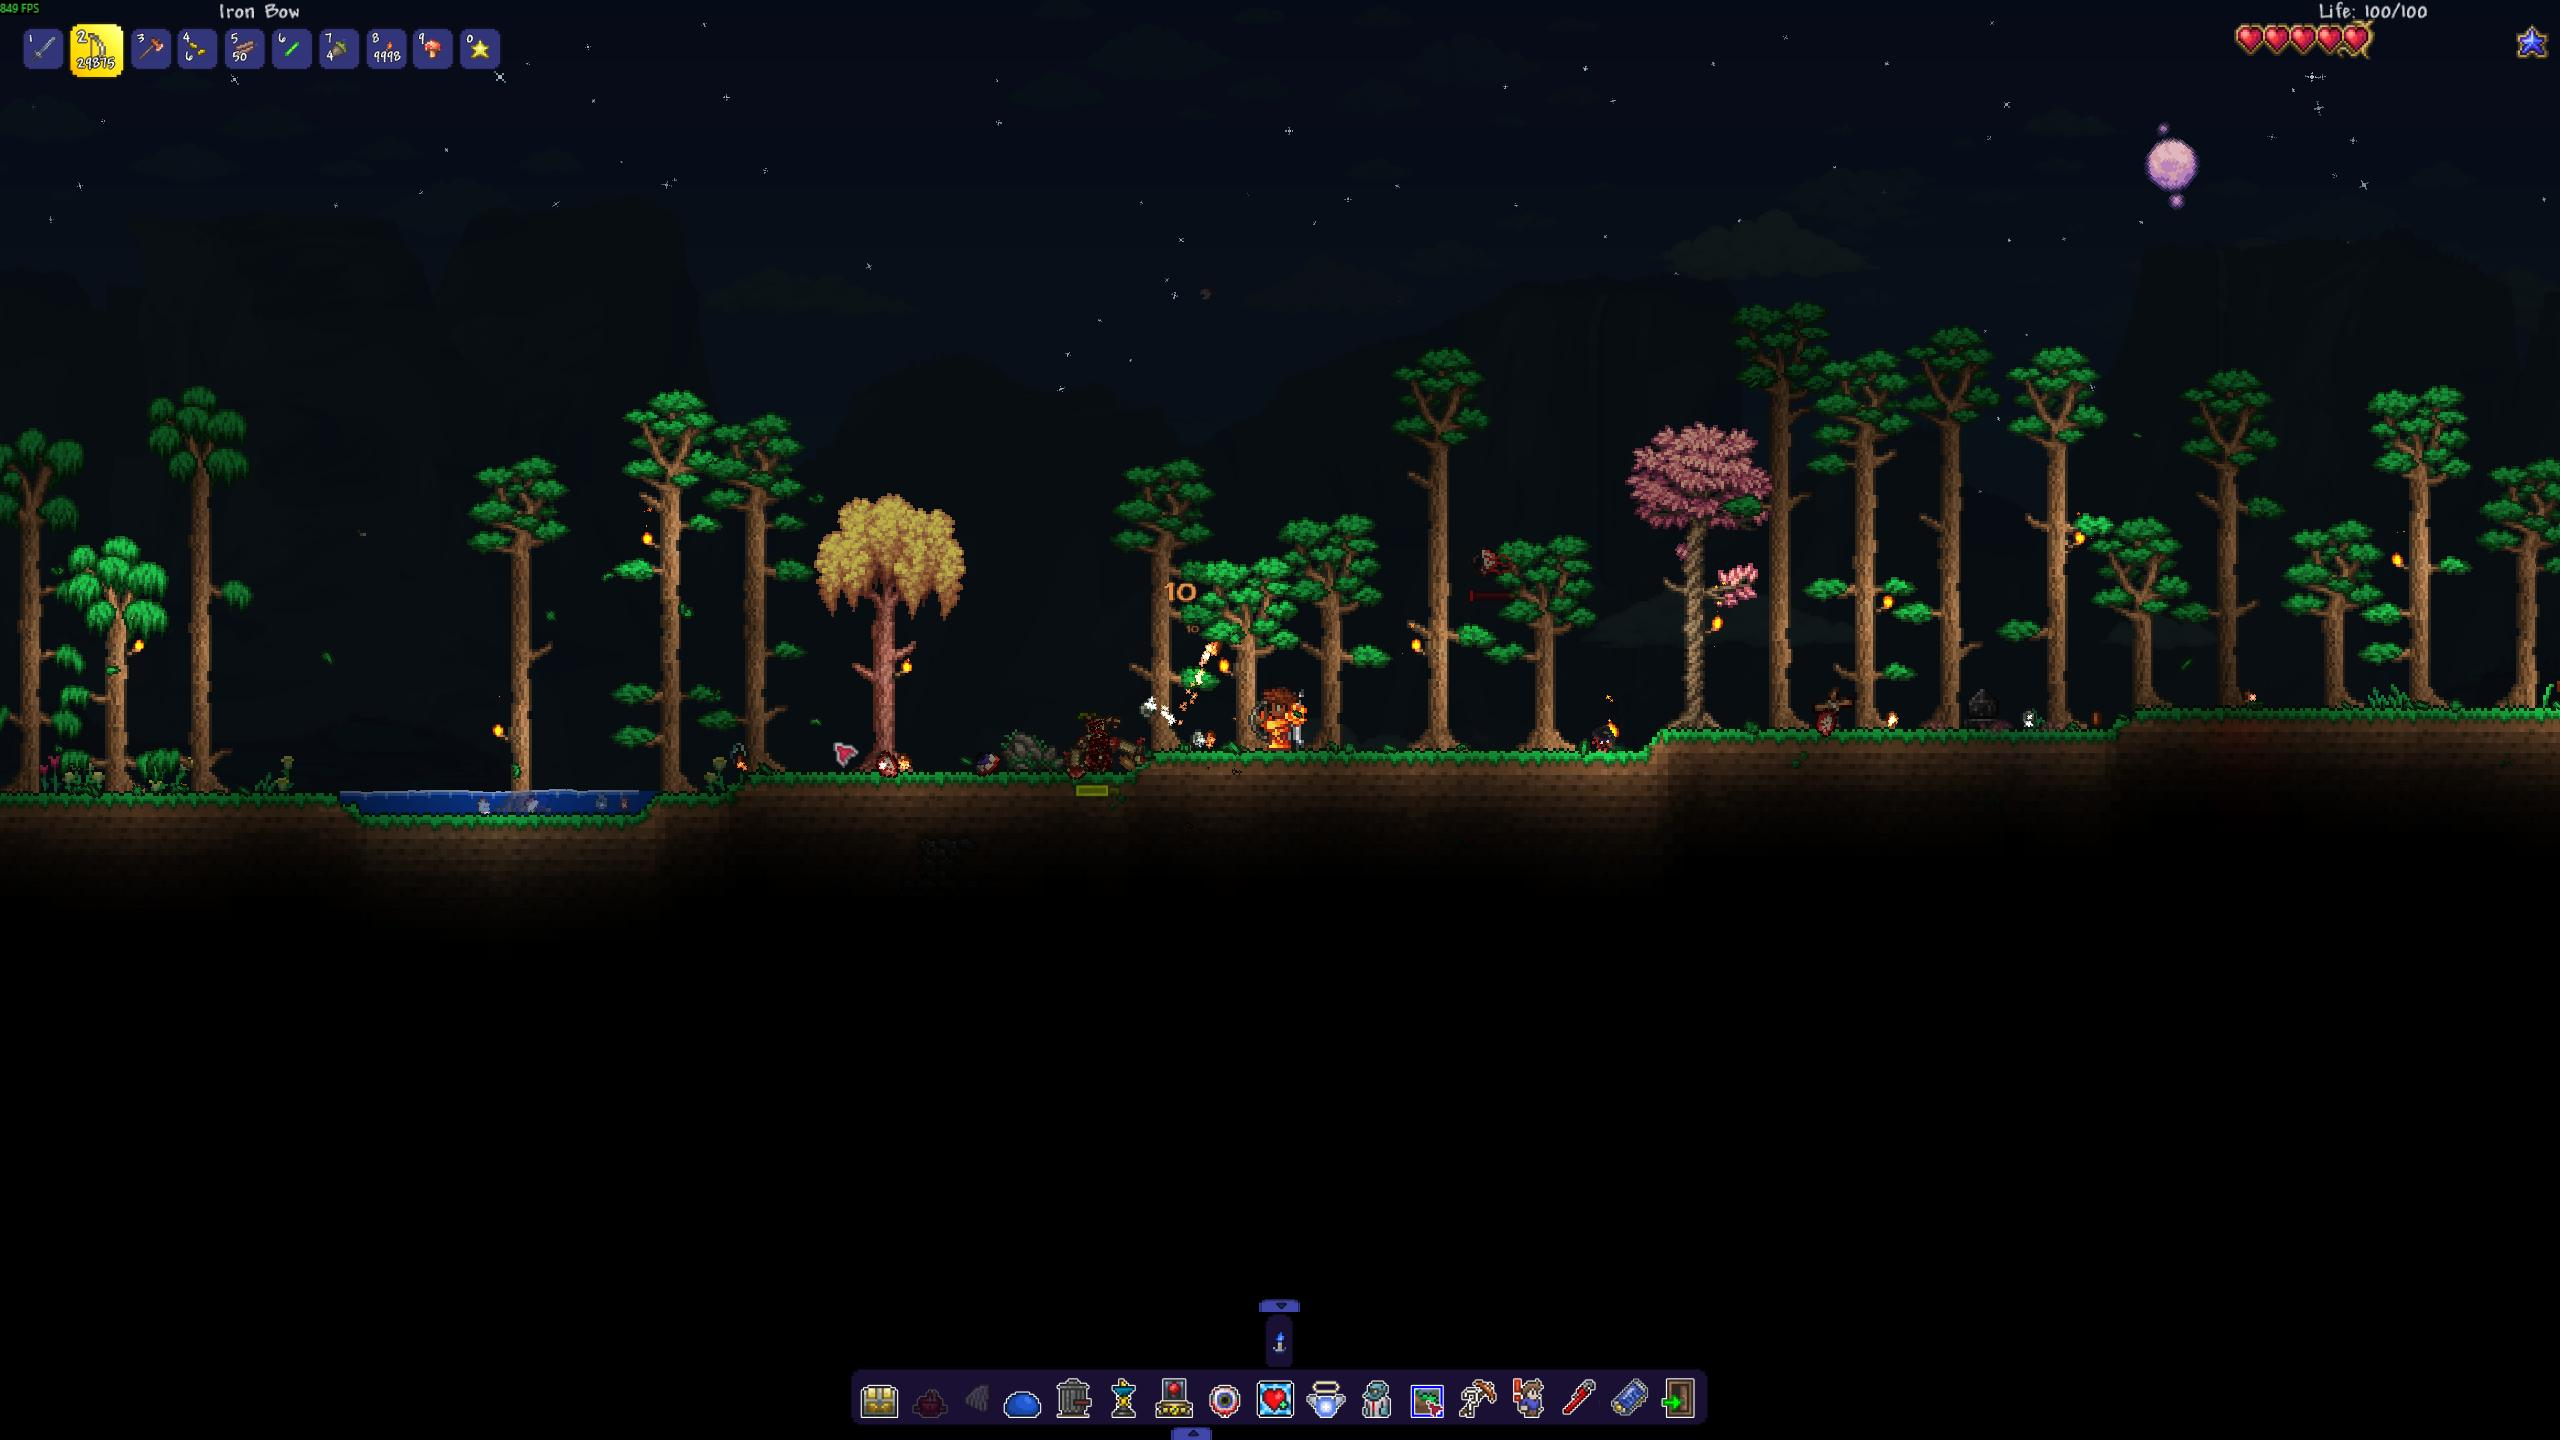Demon Eye: (1465, 536, 1524, 584)
Zombie: (1069, 703, 1115, 772)
